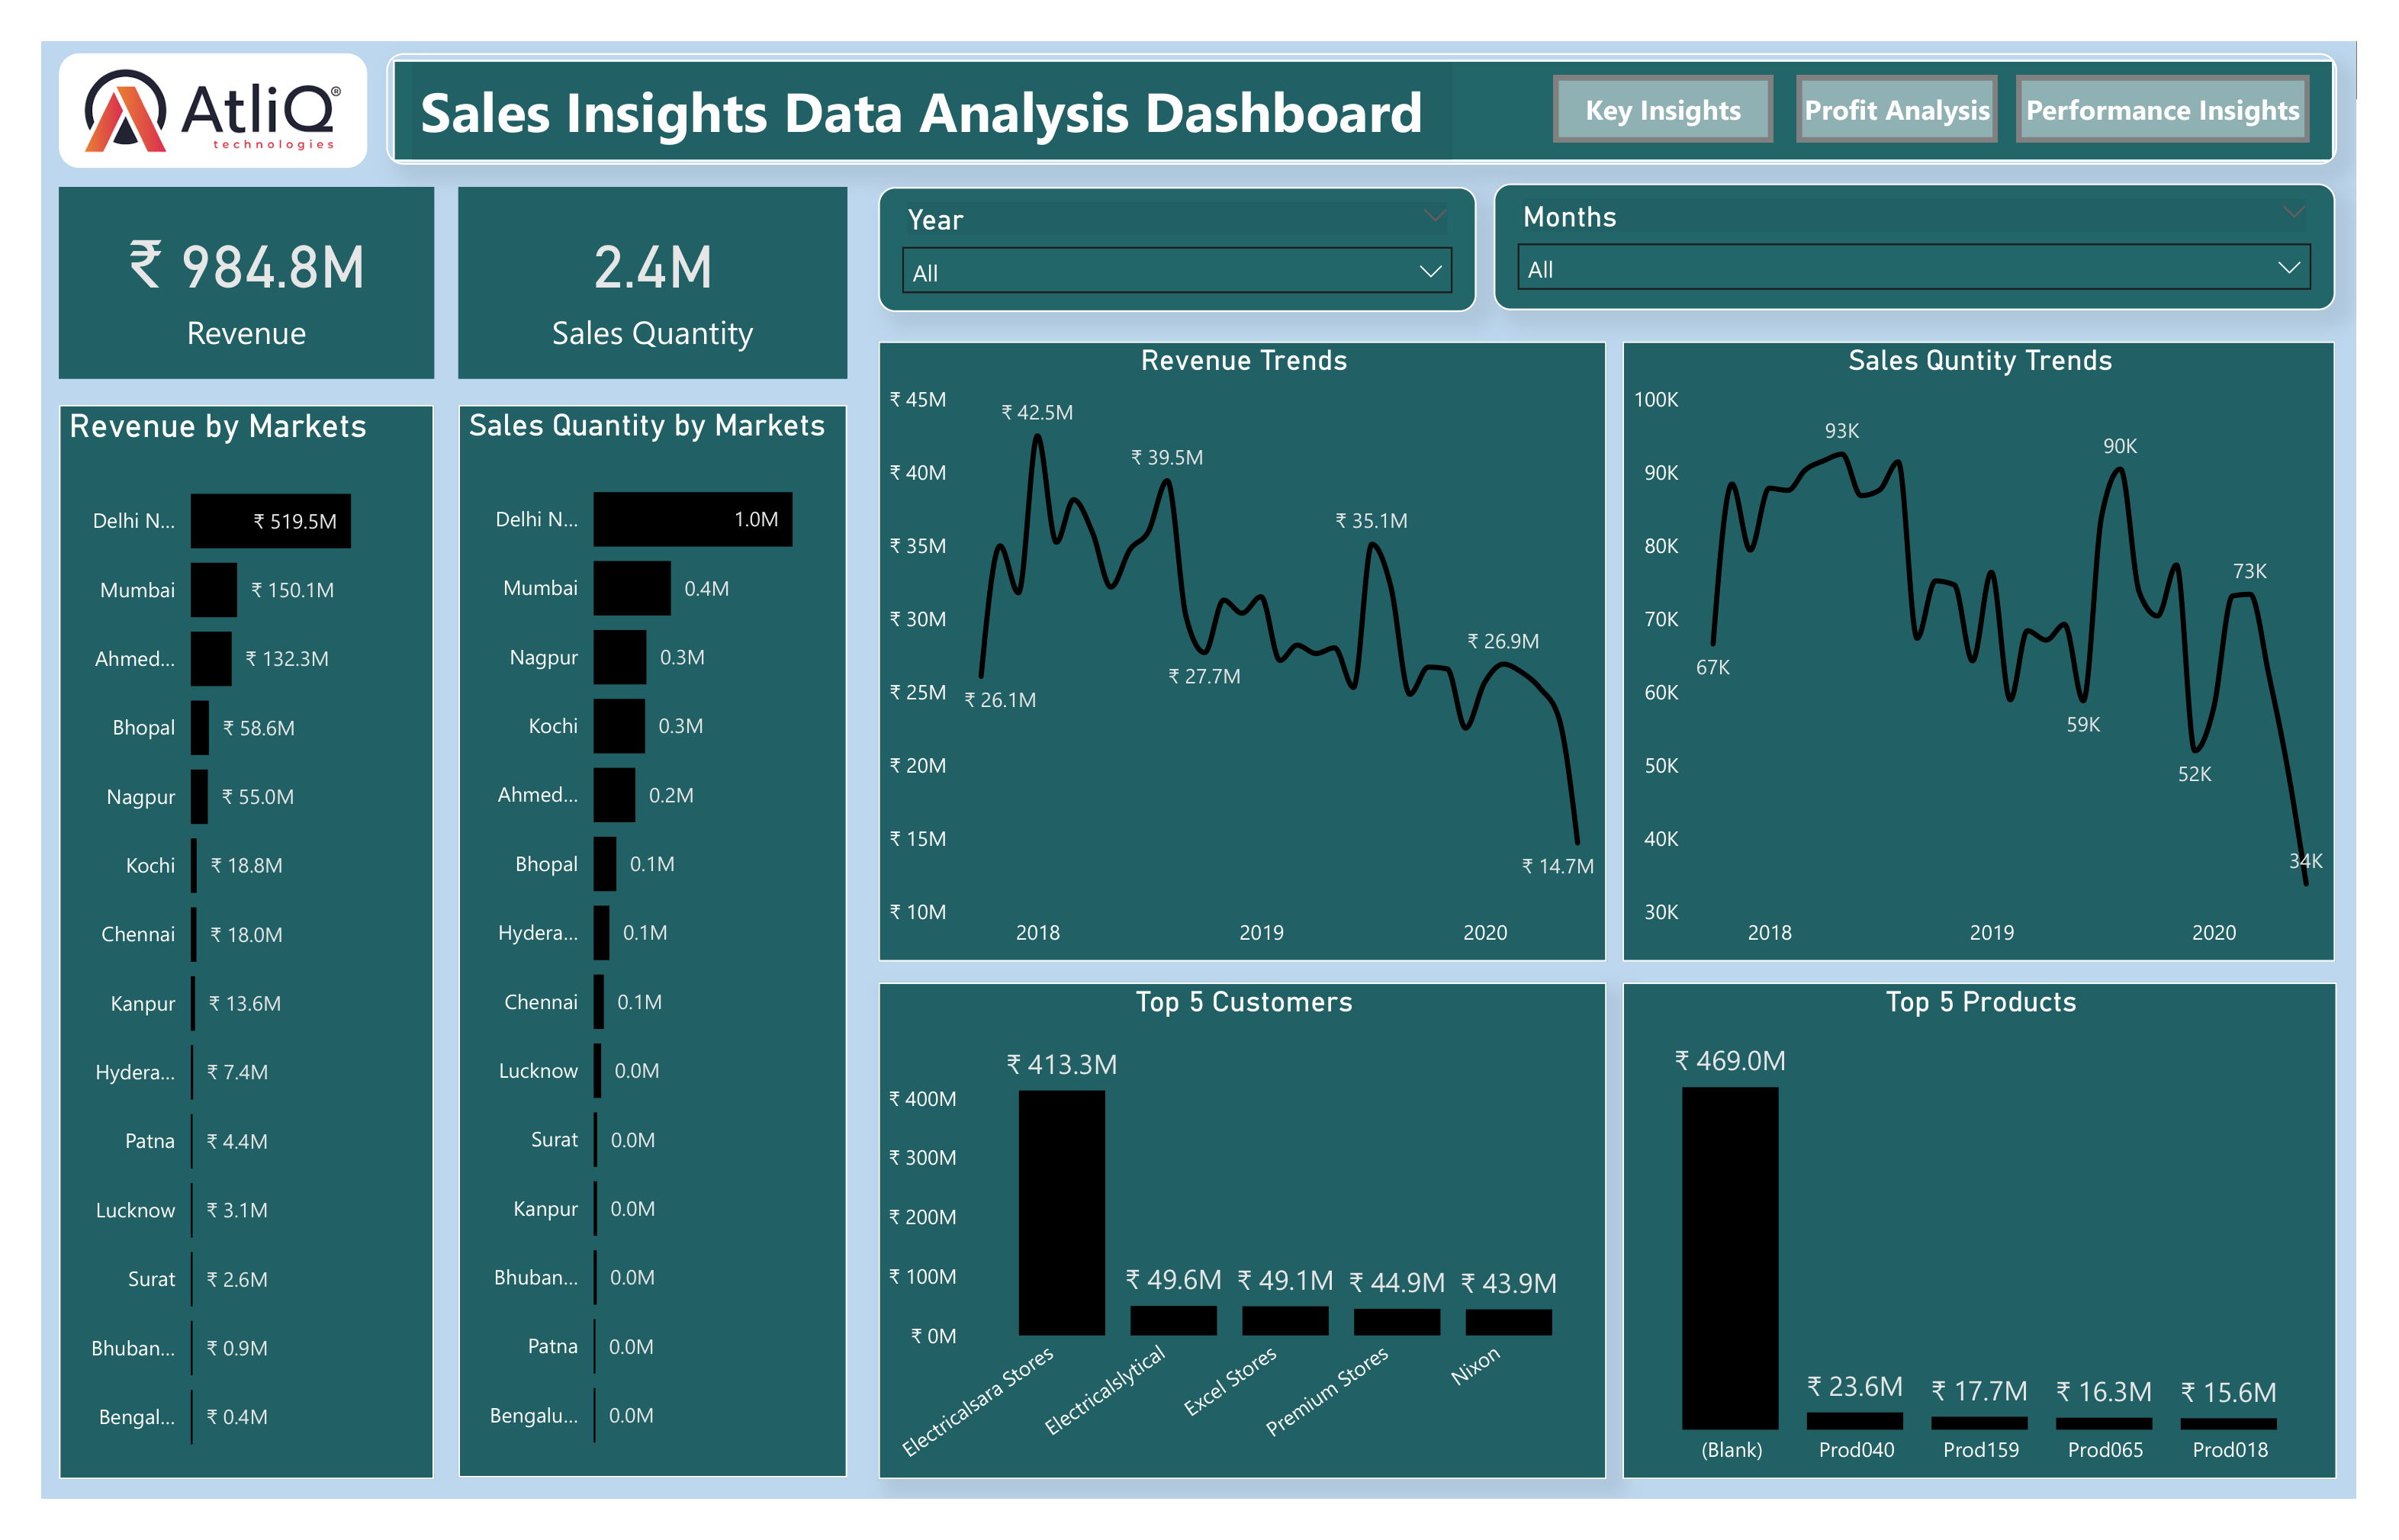

The dashboard page shown, as its layout file describes it:
{"tool":"powerbi","page":{"name":"key insights","canvas":[1350,850],"ordinal":0},"visuals":[{"type":"card","fields":{"Values":["keymeasure.Revenue"]},"box":[10.1,85.4,218.5,111.4],"z":0},{"type":"card","fields":{"Values":["keymeasure.sales quntity"]},"box":[243.3,85,226.7,111.7],"z":1000},{"type":"barChart","title":"Revenue by Markets","fields":{"Y":["keymeasure.Revenue"],"Category":["sales markets.markets_name"]},"box":[9.8,212.1,219.2,626.6],"z":2000},{"type":"barChart","title":"Sales Quantity by Markets","fields":{"Y":["keymeasure.sales quntity"],"Category":["sales markets.markets_name"]},"box":[243.3,211.7,226.7,626.7],"z":3000},{"type":"slicer","fields":{"Values":["sales date.year"]},"box":[488.3,85,348.3,73.3],"z":4000},{"type":"slicer","fields":{"Values":["sales date.cy_date"]},"box":[846.7,83.3,491.7,73.3],"z":5000},{"type":"columnChart","title":"Top 5 Customers","fields":{"Category":["sales customers.custmer_name"],"Y":["keymeasure.Revenue"]},"box":[487.5,549.3,425.7,289.4],"z":6000},{"type":"columnChart","title":"Top 5 Products","fields":{"Category":["sales products.product_code"],"Y":["keymeasure.Revenue"]},"box":[921.7,549.3,417.3,289.4],"z":7000},{"type":"lineChart","title":"Revenue Trends","fields":{"Y":["keymeasure.Revenue"],"Category":["sales date.cy_date"]},"box":[488.3,175,425,361.7],"z":8000},{"type":"lineChart","title":"Sales Quntity Trends","fields":{"Y":["keymeasure.sales quntity"],"Category":["sales date.cy_date"]},"box":[921.7,175,416.7,361.7],"z":9000},{"type":"shape","box":[200.9,7,1138,64.6],"z":10000},{"type":"shape","box":[9.8,7,179.8,67.4],"z":11000},{"type":"image","box":[14,7,171.4,67.4],"z":12000},{"type":"actionButton","box":[882.3,19.7,127.9,39.3],"z":13000},{"type":"actionButton","box":[1024.2,19.7,116.6,39.3],"z":14000},{"type":"actionButton","box":[1152.1,19.7,171.4,39.3],"z":15000},{"type":"textbox","box":[216.4,12.6,606.9,56.2],"z":16000}]}

Visuals, with their boxes on the page's 1350x850 design canvas (x1, y1, x2, y2). These are canvas units, not pixel positions in the 2399x1540 screenshot, which may show the page scaled, cropped or inside an application window:
card - keymeasure.Revenue: rect(10, 85, 229, 197)
card - keymeasure.sales quntity: rect(243, 85, 470, 197)
"Revenue by Markets" barChart: rect(10, 212, 229, 839)
"Sales Quantity by Markets" barChart: rect(243, 212, 470, 838)
slicer - sales date.year: rect(488, 85, 837, 158)
slicer - sales date.cy_date: rect(847, 83, 1338, 157)
"Top 5 Customers" columnChart: rect(488, 549, 913, 839)
"Top 5 Products" columnChart: rect(922, 549, 1339, 839)
"Revenue Trends" lineChart: rect(488, 175, 913, 537)
"Sales Quntity Trends" lineChart: rect(922, 175, 1338, 537)
shape: rect(201, 7, 1339, 72)
shape: rect(10, 7, 190, 74)
image: rect(14, 7, 185, 74)
actionButton: rect(882, 20, 1010, 59)
actionButton: rect(1024, 20, 1141, 59)
actionButton: rect(1152, 20, 1324, 59)
textbox: rect(216, 13, 823, 69)
